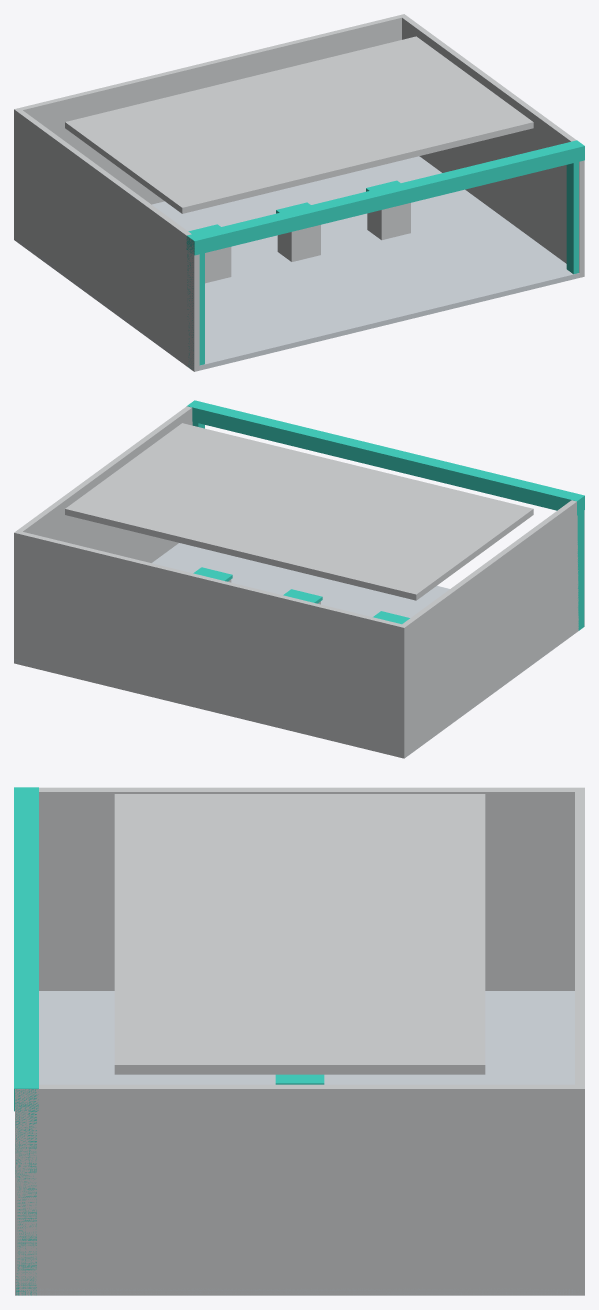
3 views of the same model, one above another, from view 1: azimuth 30°, elevation 25°; view 2: azimuth 150°, elevation 25°; view 3: azimuth 270°, elevation 25° (orthographic). The views are drawn at different scales.
Parts seen in each view (by area): view 1: Exhibition Booth Concept; view 2: Exhibition Booth Concept; view 3: Exhibition Booth Concept.
Boxes of the visible parts, <box> form: Exhibition Booth Concept: <box>14,14,584,371</box>; Exhibition Booth Concept: <box>14,400,584,758</box>; Exhibition Booth Concept: <box>14,787,584,1295</box>.
Bounding box in the file's own units: 10 × 3.34 × 8.01.
